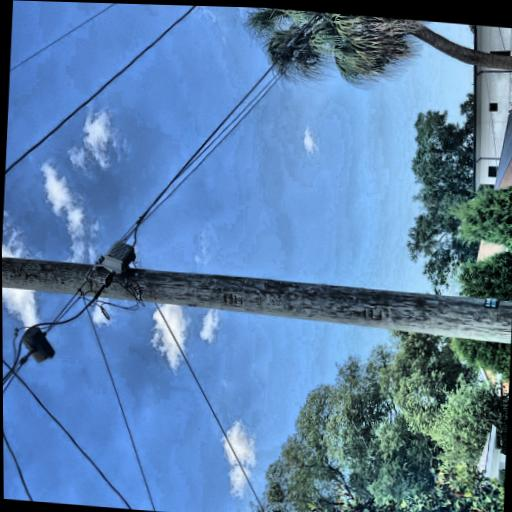pole: (37, 1, 134, 508)
